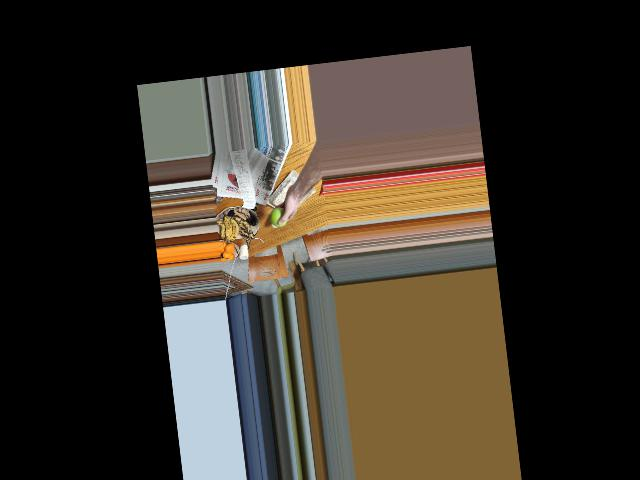apple: (268, 204, 291, 229)
